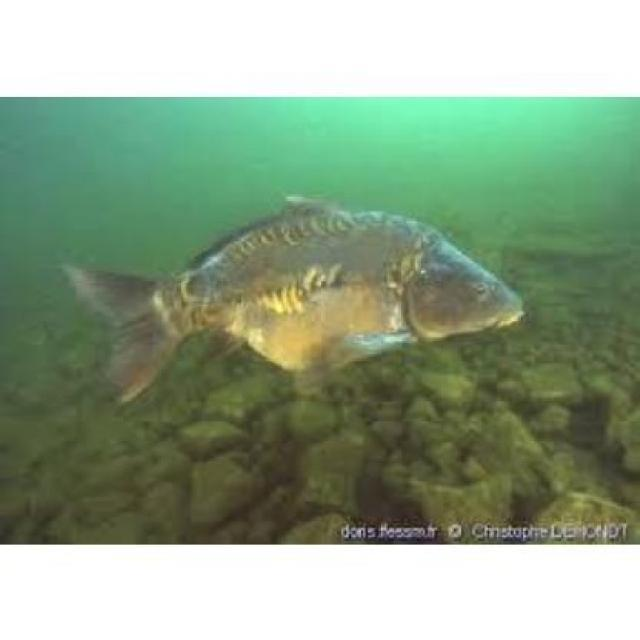ikan-mas: (80, 193, 522, 394)
